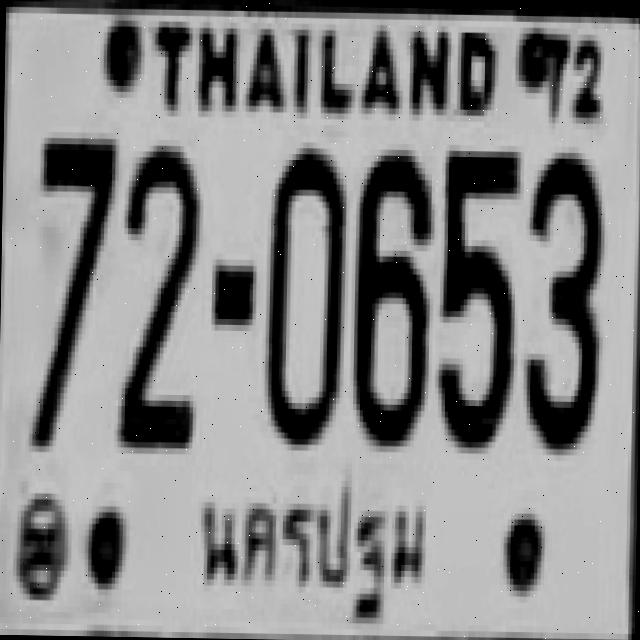0: (264, 141, 344, 439)
2: (115, 139, 199, 442)
3: (522, 146, 602, 444)
5: (433, 144, 518, 442)
6: (348, 146, 428, 444)
7: (27, 132, 114, 446)
NakhonPathom: (192, 468, 436, 627)
